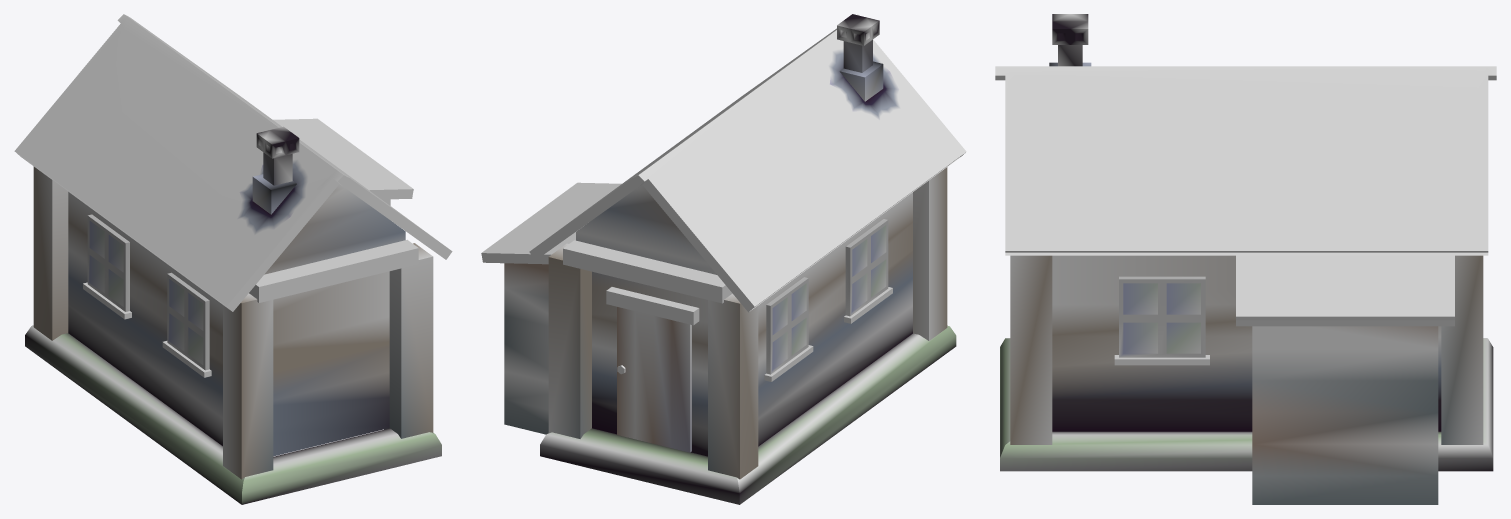
The model's file is House4V3.fbx.
3 renders of one model, left to right at view 1: azimuth 30°, elevation 25°; view 2: azimuth 150°, elevation 25°; view 3: azimuth 270°, elevation 25°, orthographic. The views are drawn at different scales.
Parts seen in each view (by area): view 1: House4; view 2: House4; view 3: House4.
Boxes of the visible parts, x1,y1,x2,y2 form: House4: [14, 14, 452, 504]; House4: [481, 14, 966, 504]; House4: [995, 14, 1496, 504].
Bounding box in the file's own units: 361 × 395 × 477.
